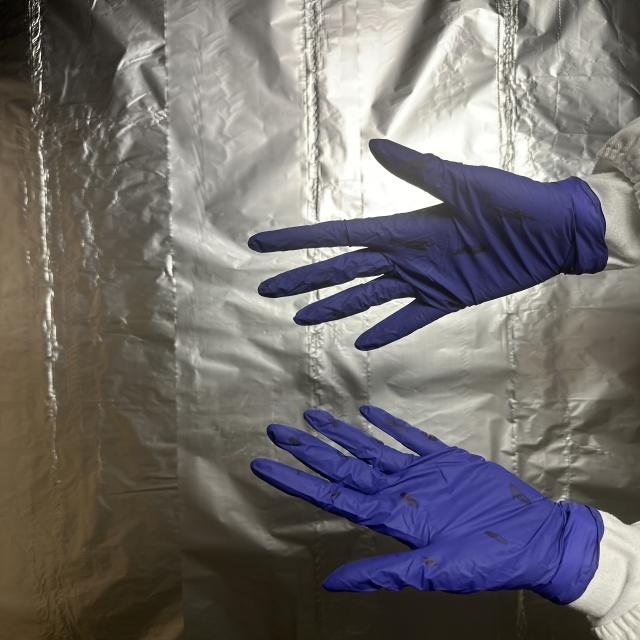gloves_contaminated: (248, 140, 608, 350), (251, 406, 603, 604)
